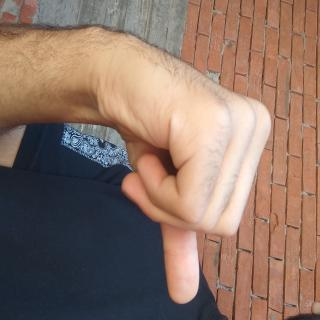WAW: (13, 56, 232, 320)
